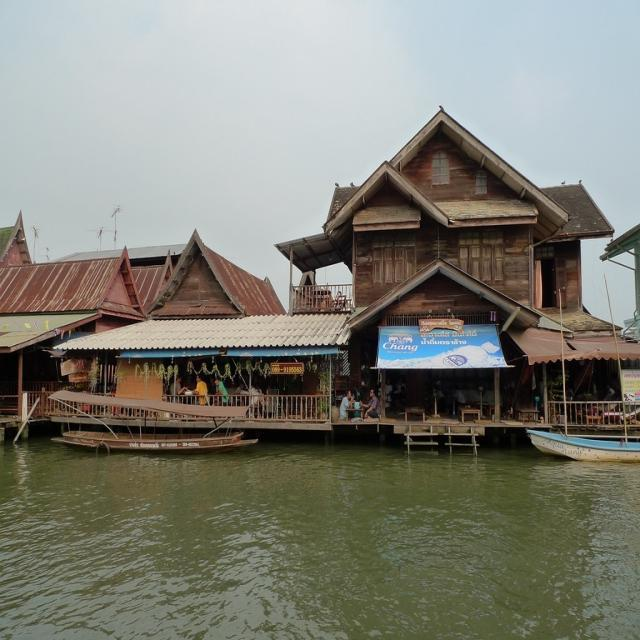boat: (49, 388, 247, 465)
